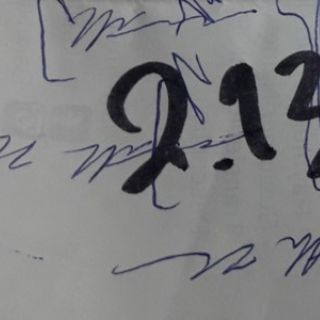.: (209, 152, 236, 174)
1: (216, 58, 282, 162)
2: (104, 59, 193, 196)
